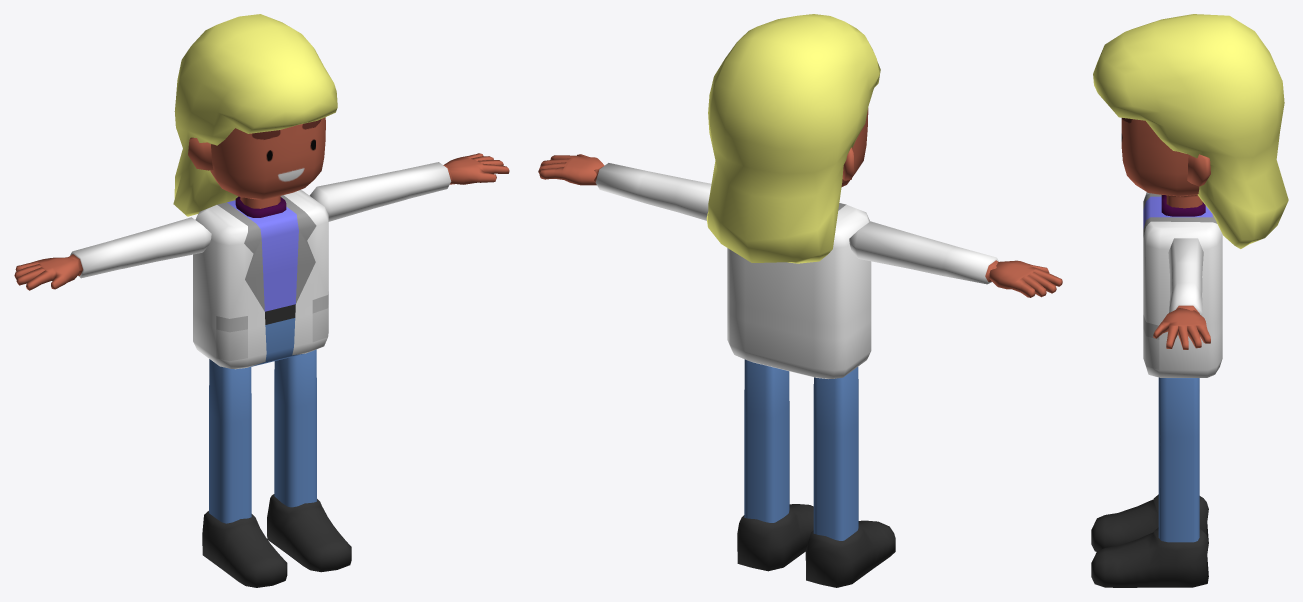
The model's file is NPC_Black01_BlondeHair02.gltf.
3 renders of one model, left to right at view 1: azimuth 30°, elevation 25°; view 2: azimuth 150°, elevation 25°; view 3: azimuth 270°, elevation 25°, orthographic. The views are drawn at different scales.
Visible parts, largest first — view 1: NPC_Corpo_Black1_BlondeHair.002; view 2: NPC_Corpo_Black1_BlondeHair.002; view 3: NPC_Corpo_Black1_BlondeHair.002.
Boxes of the visible parts, bbox=[...] form: NPC_Corpo_Black1_BlondeHair.002: bbox=[14, 14, 509, 587]; NPC_Corpo_Black1_BlondeHair.002: bbox=[538, 14, 1062, 587]; NPC_Corpo_Black1_BlondeHair.002: bbox=[1091, 14, 1288, 587].
Bounding box in the file's own units: 2.31 × 2.33 × 0.7777.
Materials: 1 (1 with a texture image).
